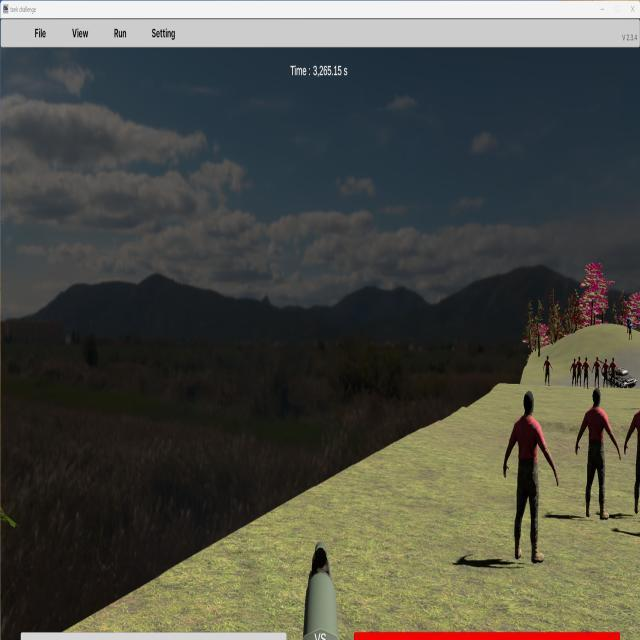Human: (503, 389, 559, 564), (575, 386, 621, 520), (624, 387, 640, 518)
Tank: (604, 366, 639, 389)
